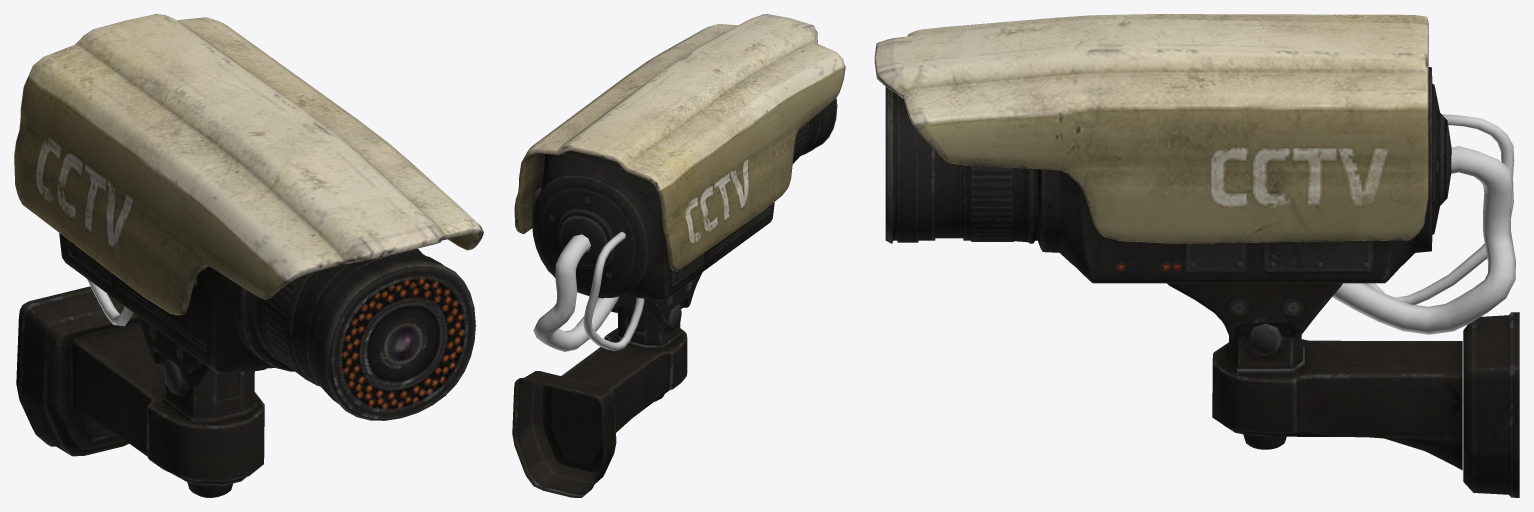
Rendered from prop_cctvCam.fbx.
3 renders of one model, left to right at view 1: azimuth 30°, elevation 25°; view 2: azimuth 150°, elevation 25°; view 3: azimuth 270°, elevation 25°, orthographic. The views are drawn at different scales.
Parts seen in each view (by area): view 1: prop_cctvCam_body, prop_cctvCam_base, prop_cctvCam_joint; view 2: prop_cctvCam_body, prop_cctvCam_base, prop_cctvCam_joint; view 3: prop_cctvCam_body, prop_cctvCam_base, prop_cctvCam_joint.
Boxes of the visible parts, x1,y1,x2,y2 form: prop_cctvCam_body: [14, 14, 483, 420]; prop_cctvCam_base: [16, 286, 264, 485]; prop_cctvCam_joint: [163, 359, 257, 497]; prop_cctvCam_body: [514, 14, 845, 351]; prop_cctvCam_base: [512, 328, 687, 497]; prop_cctvCam_joint: [615, 304, 682, 401]; prop_cctvCam_body: [874, 14, 1515, 339]; prop_cctvCam_base: [1212, 312, 1519, 497]; prop_cctvCam_joint: [1226, 324, 1304, 449].
Bounding box in the file's own units: 23.13 × 44.55 × 57.88.
